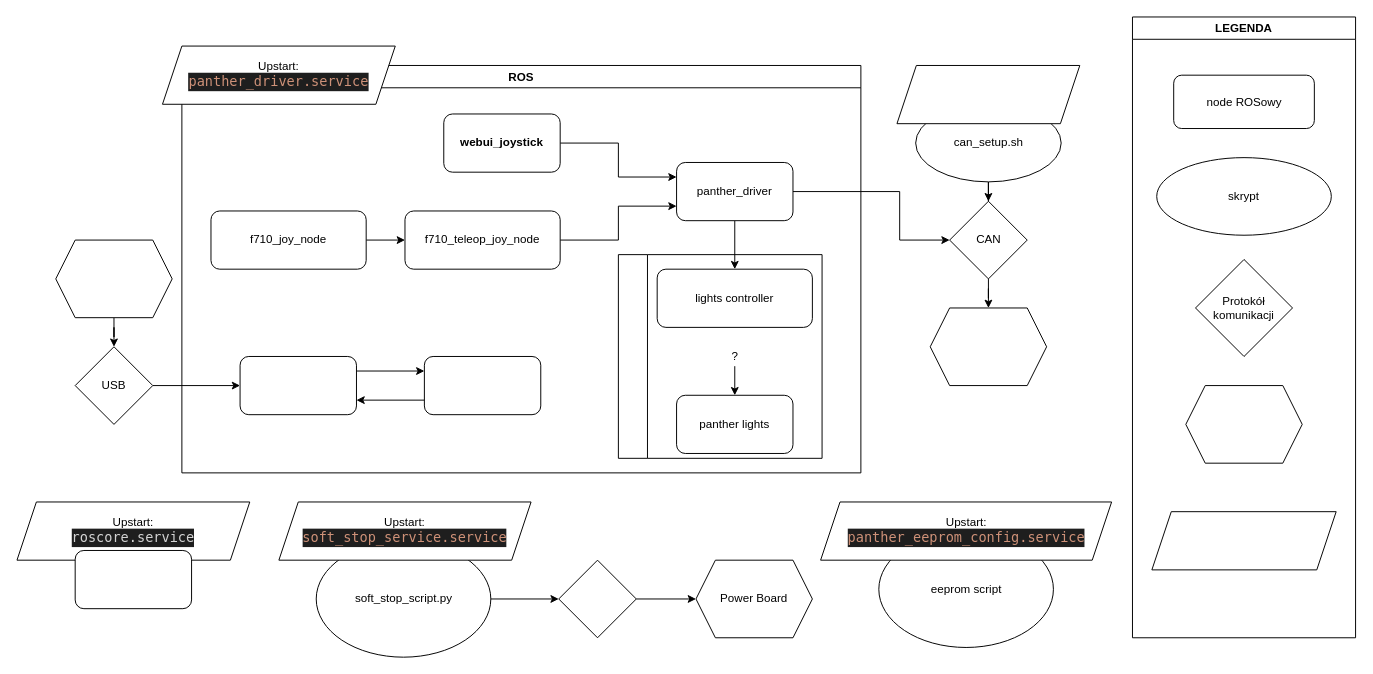
This 1373x674 diagram has some shape labels left out. Here are the shapes that lost their labels. From the top down, the centre of each, then its label:
At point 988,94: "Upstart: can_setup.service".
At point 113,278: "IMU".
At point 719,356: "Dwa node które defacto zawsze robią to samo".
At point 988,346: "4x Roboteq Motor drivers".
At point 297,385: "ImuFilterNode".
At point 482,385: "imu_manager".
At point 1243,424: "Element Hardware".
At point 1243,540: "Setwis uruchamiający funkcjonalność na RPI".
At point 133,579: "roscore".
At point 597,598: "GPIO".
